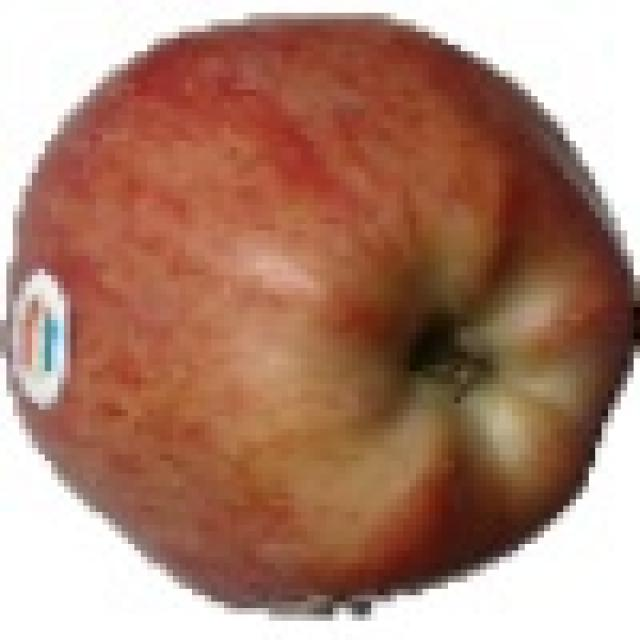apple: (2, 4, 640, 627)
